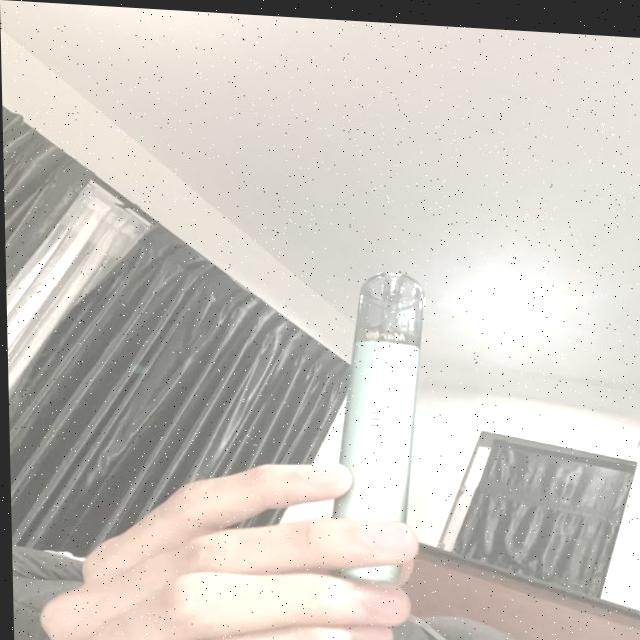vape: (325, 262, 431, 580)
